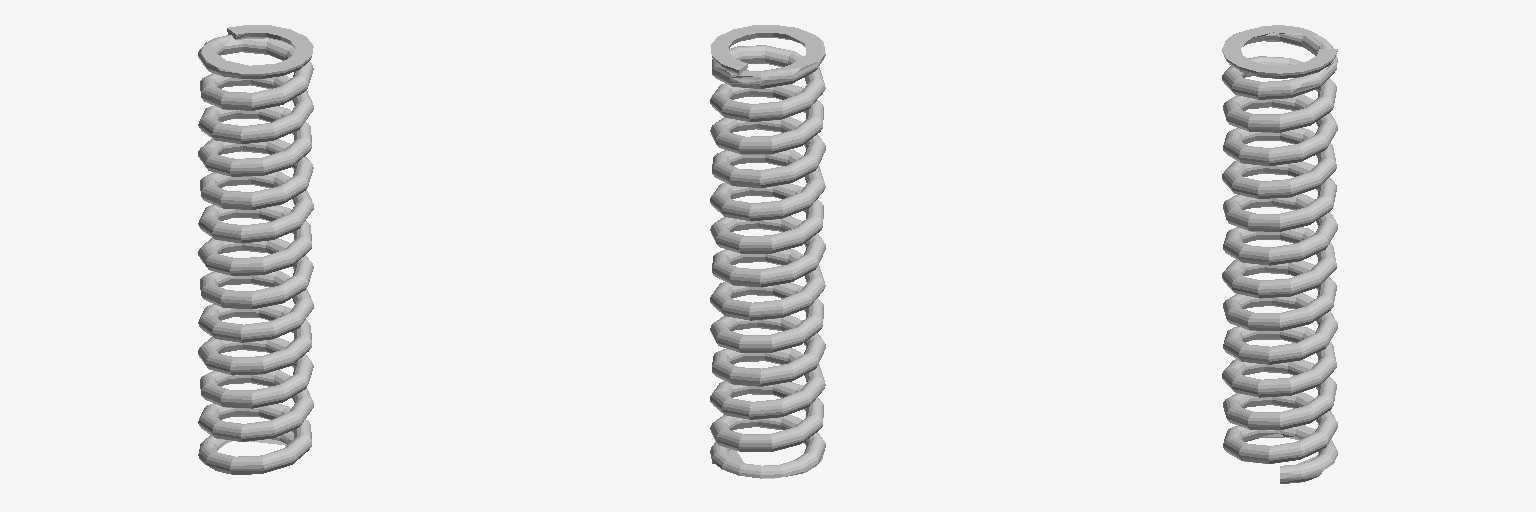
File: 79. Пружина (свободна).obj
The picture shows the model from 3 angles: view 1: azimuth 30°, elevation 25°; view 2: azimuth 150°, elevation 25°; view 3: azimuth 270°, elevation 25°; orthographic projection.
Visible parts, largest first — view 1: Твердое тело1; view 2: Твердое тело1; view 3: Твердое тело1.
Boxes of the visible parts, box(x1,y1,x2,y2) form: Твердое тело1: box(198, 25, 313, 474); Твердое тело1: box(710, 25, 825, 478); Твердое тело1: box(1222, 25, 1337, 483).
Size of the model in its own units: 12.51 by 49 by 12.5.